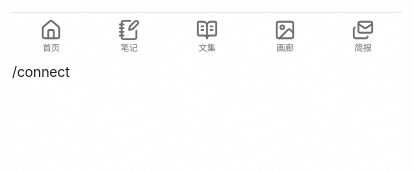
BottomTabBar › keeps the 文集 destination with the shared book-open-text icon
Click the button "文集". click: coordinates (207, 37)
box: [168, 13, 246, 61]
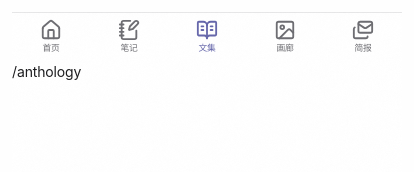
Expected: the text with test id "current-path" reads "/anthology", [12, 63, 81, 80]
